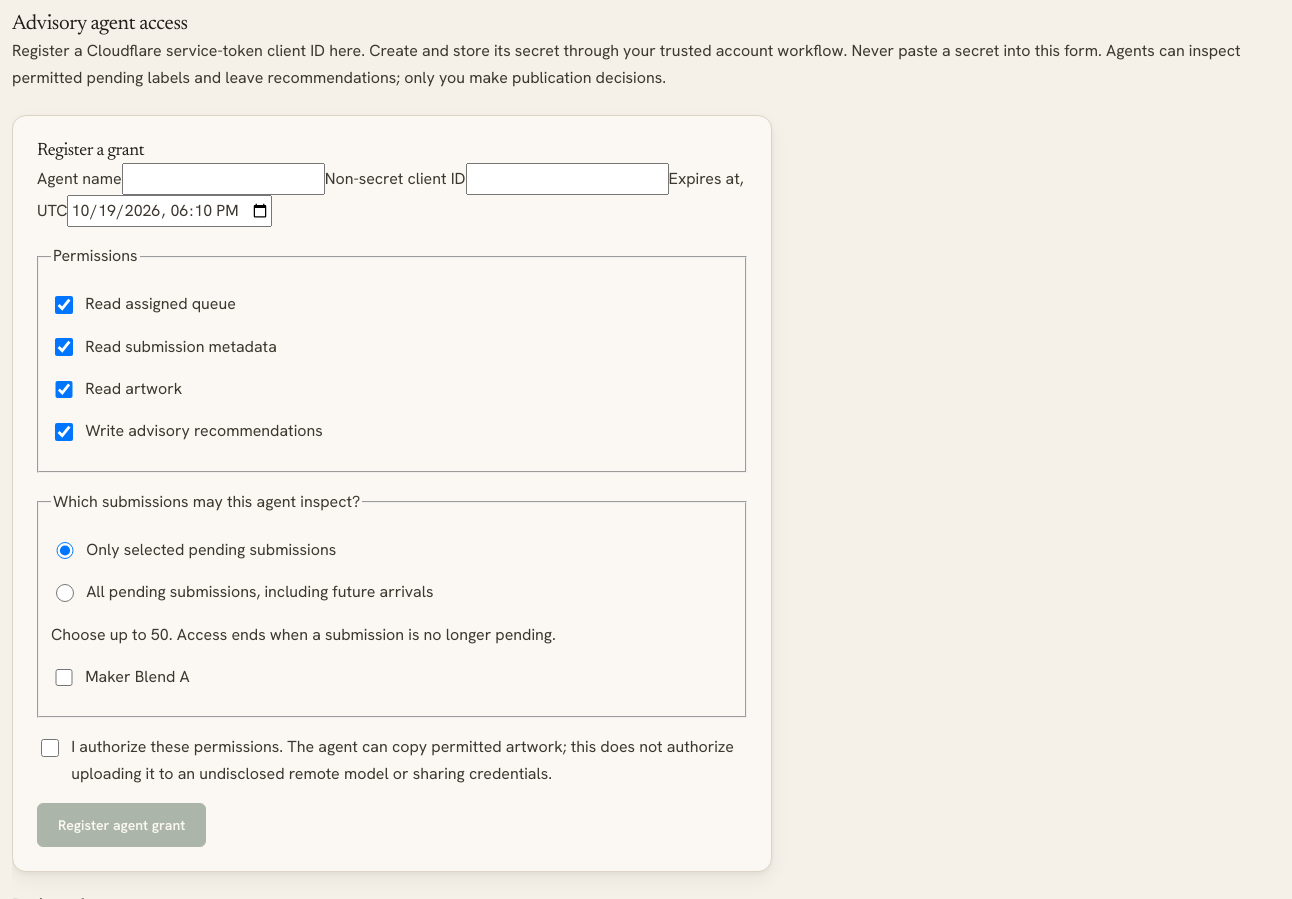
Test case: registers only the selected non-secret client grant and never sends credentials
Check: the checkbox labelled "Maker Blend A" is shown, box [55,669,73,686]
Check: the radio button labelled "Only selected pending submissions" is checked, box [56,542,74,559]
In the field labelled "Agent name": (223, 179) [122,162,325,195], type "Local inspector"
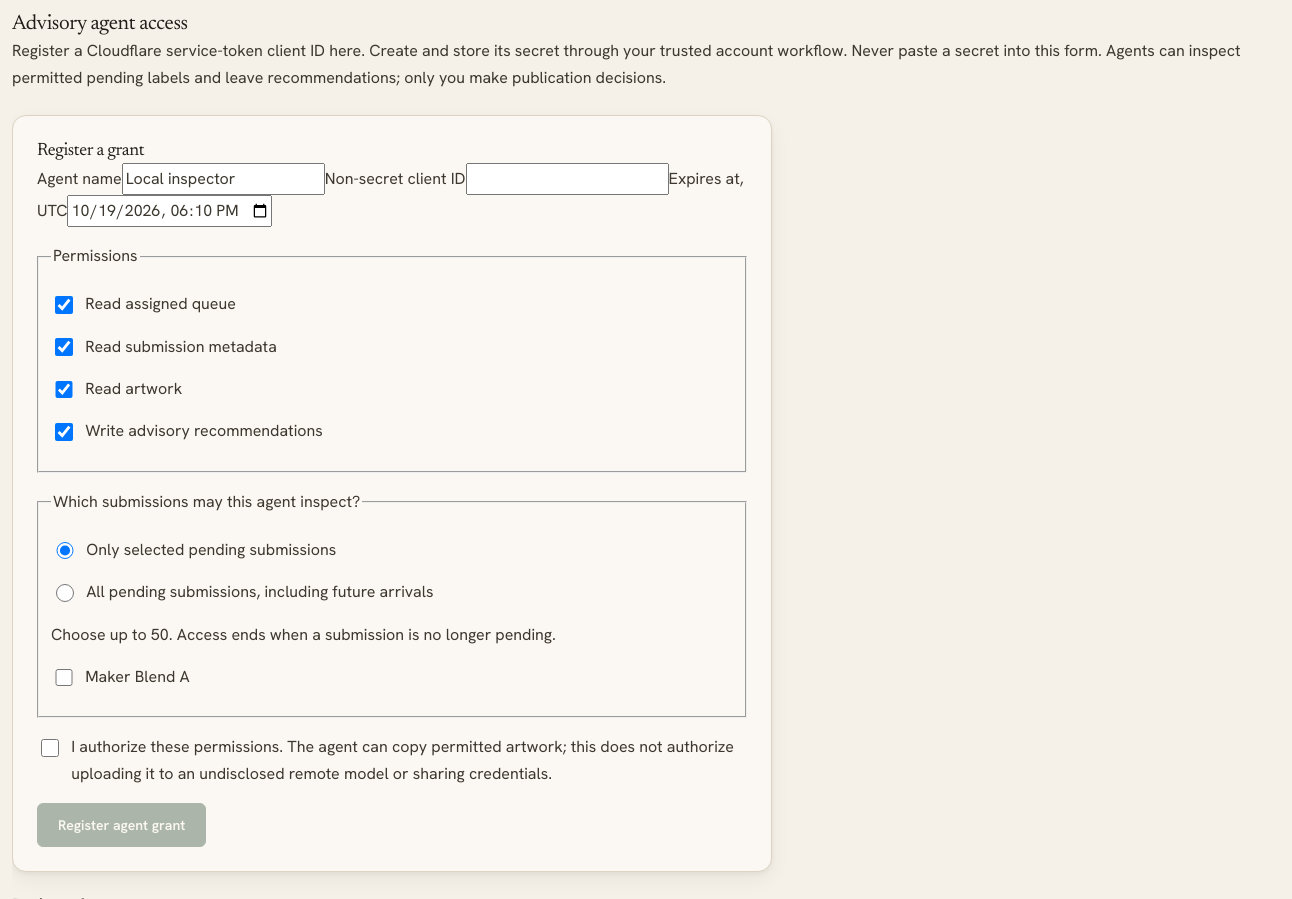
In the field labelled "Non-secret client ID": (567, 179) [466,162,668,195], type "client.access"
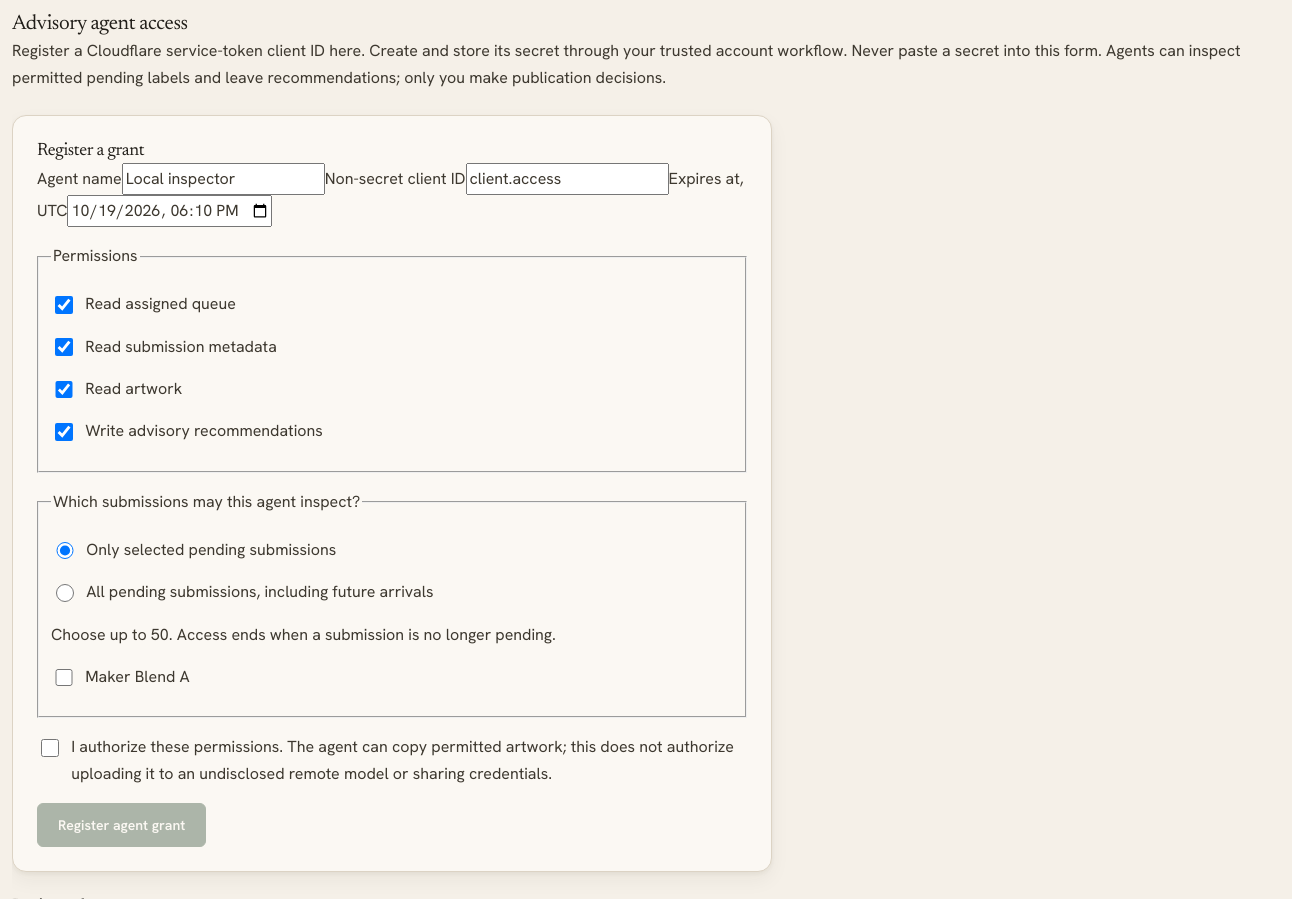
Click the checkbox labelled "Maker Blend A": (64, 678) [55,669,73,686]
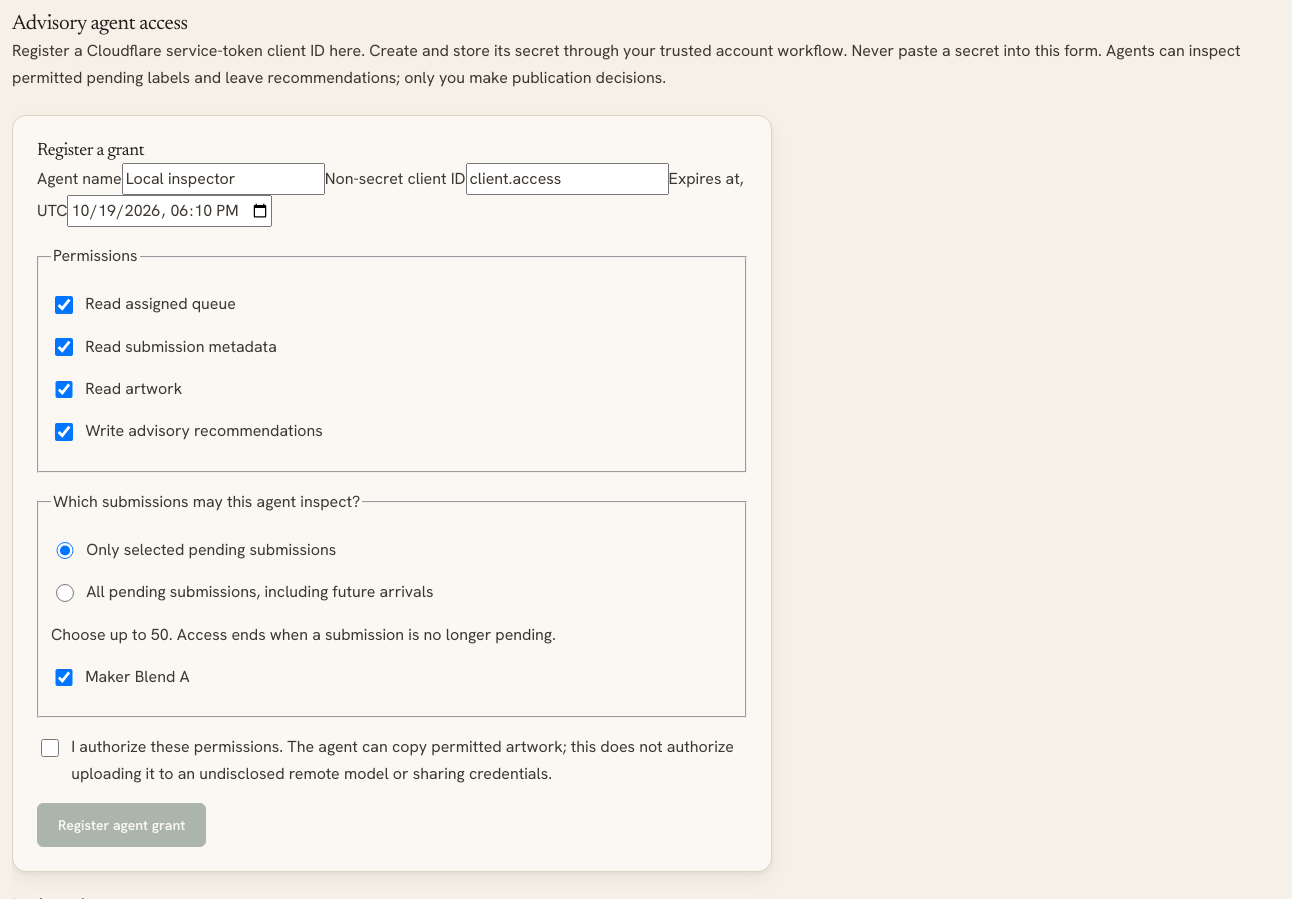
Click the checkbox labelled "I authorize these permissions": (50, 748) [41,739,59,757]
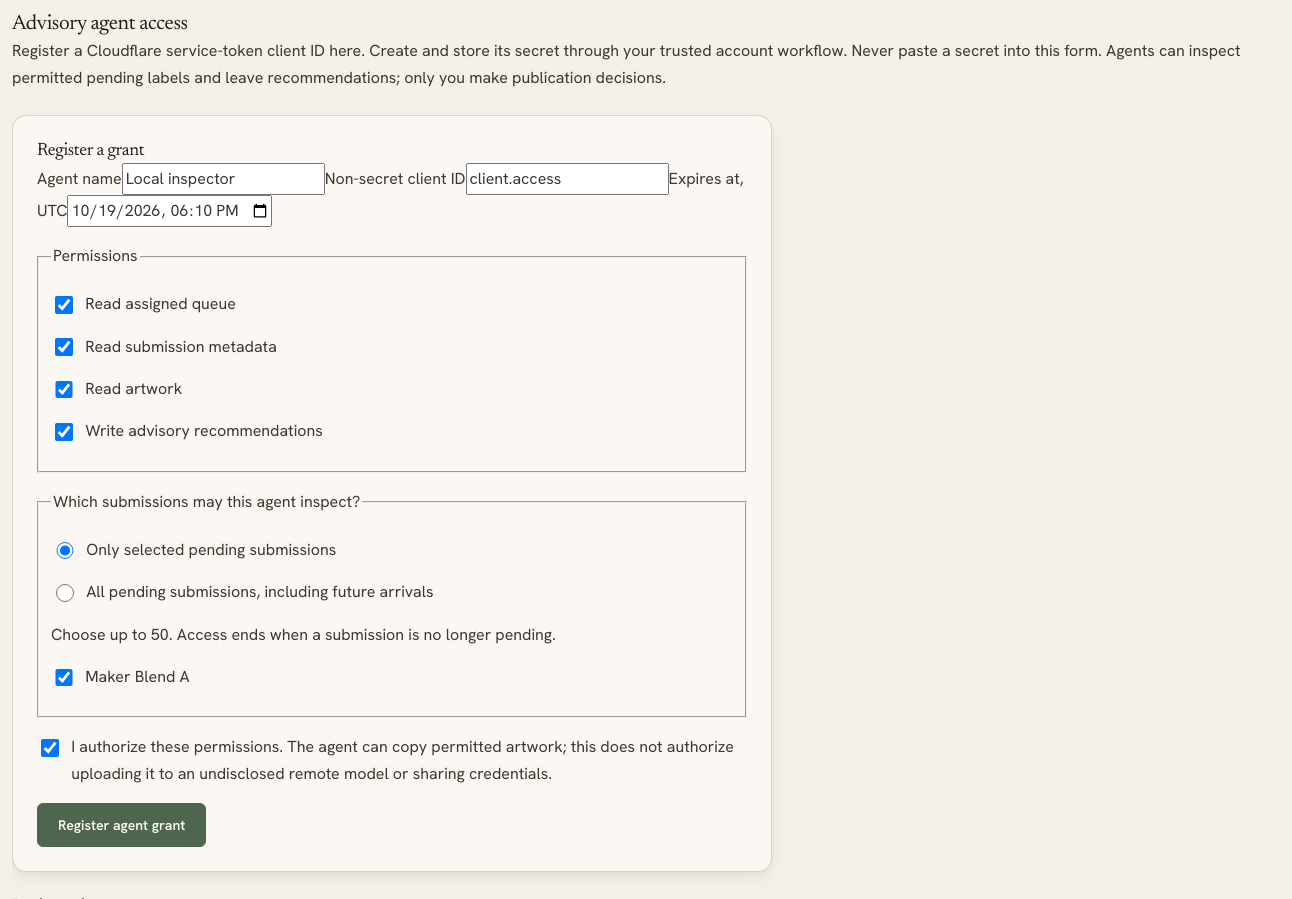
Click the button "Register agent grant": (122, 825) [37,803,206,847]
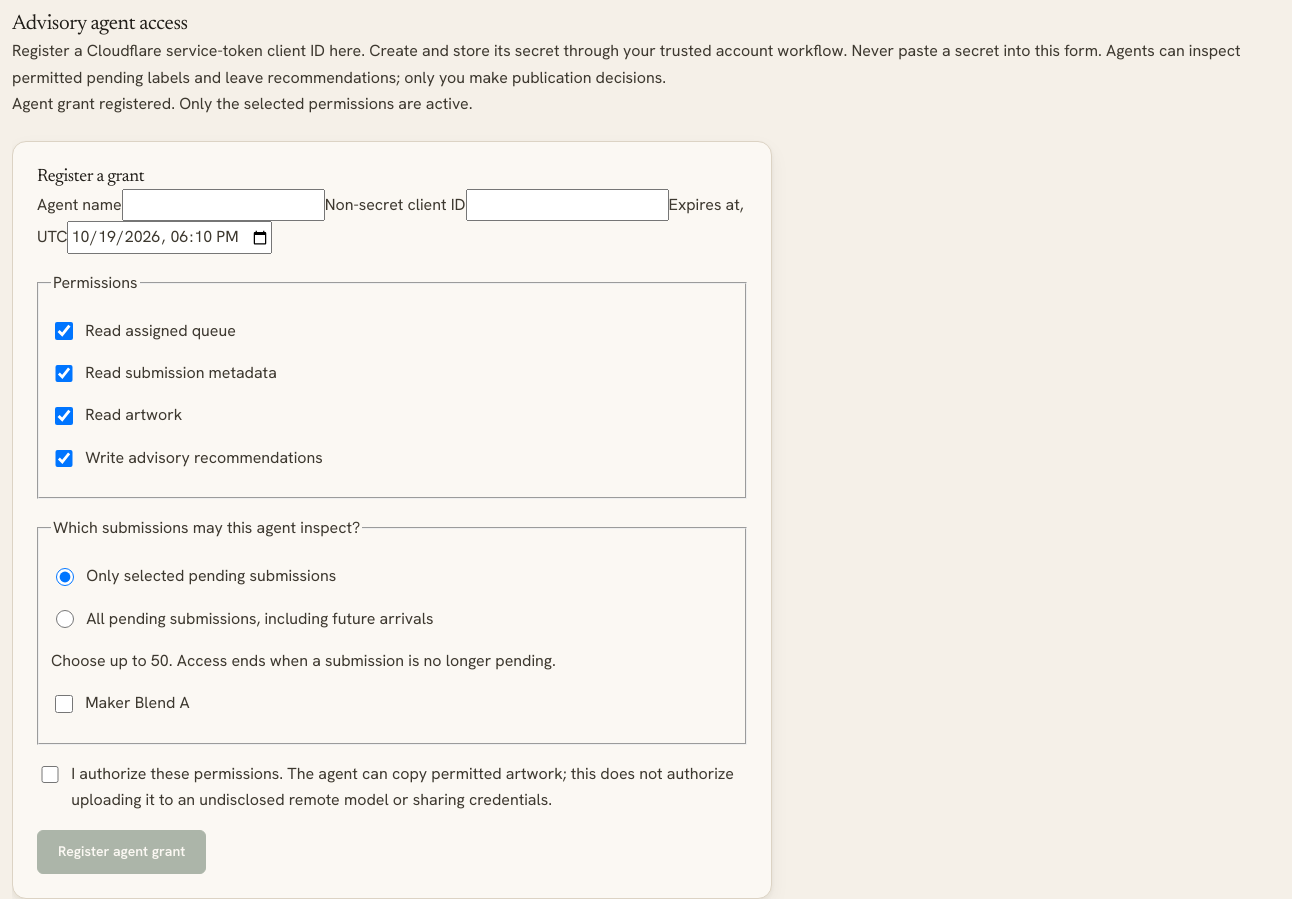
Check: the text "Agent grant registered. Only the selected permissions are active." is shown, box [12,93,472,114]
